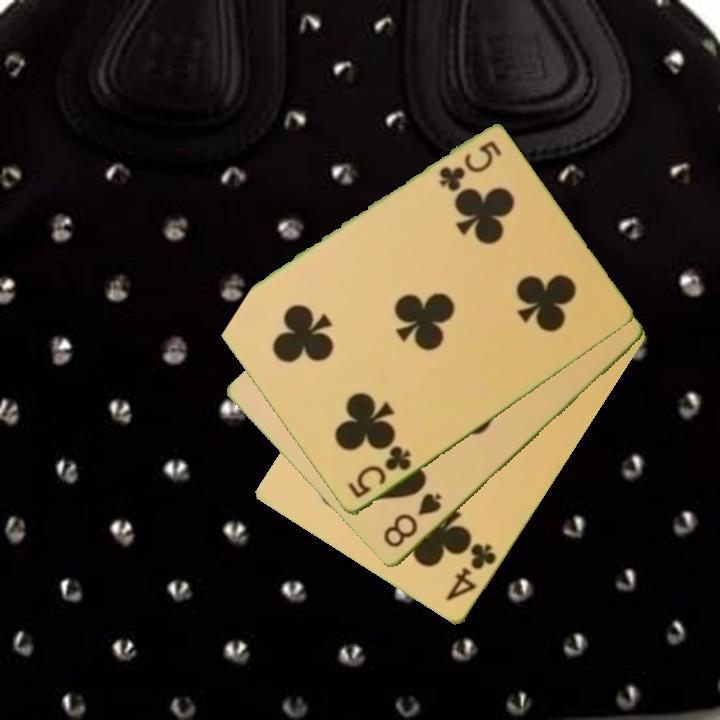4c: (442, 540, 500, 605)
5c: (344, 442, 415, 502), (435, 138, 504, 193)
8s: (379, 489, 445, 552)
